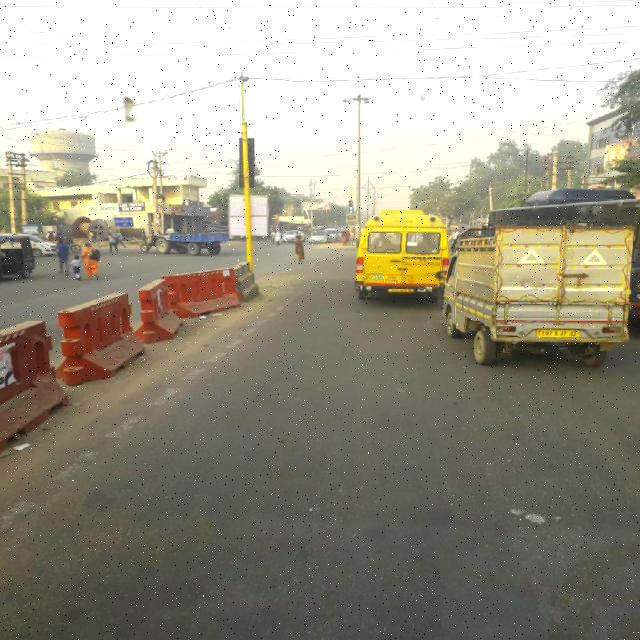D44: (6, 307, 275, 528)
